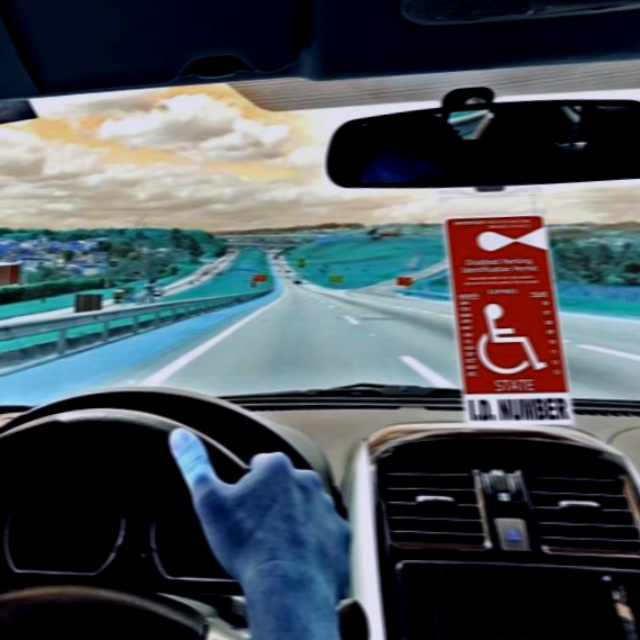ISA: (466, 289, 558, 384)
